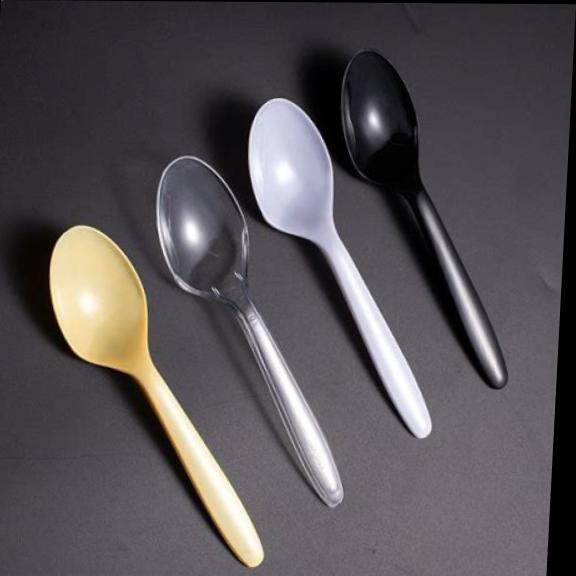Plastik: (50, 226, 262, 567), (156, 156, 343, 507), (248, 98, 430, 438), (341, 51, 507, 389)
